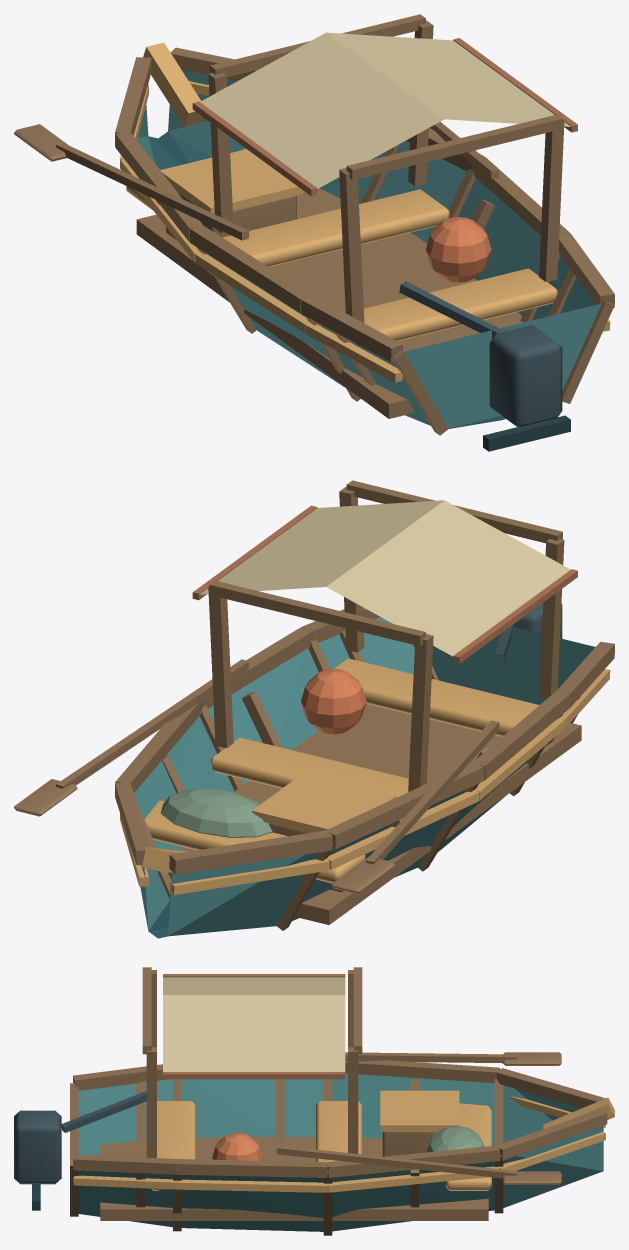
The model's file is coastal-fishing-boat.glb.
3 renders of one model, top to bottom at view 1: azimuth 30°, elevation 25°; view 2: azimuth 150°, elevation 25°; view 3: azimuth 270°, elevation 25°, orthographic. The views are drawn at different scales.
Parts seen in each view (by area): view 1: boat_material_boat_weathered_wood, boat_material_boat_oat_canvas, boat_material_boat_warm_stripe, boat_material_boat_storm_teal, boat_material_boat_dark_metal, boat_material_boat_buoy_coral, boat_material_boat_canvas_edge, boat_material_boat_deep_keel, boat_material_boat_shadow; view 2: boat_material_boat_weathered_wood, boat_material_boat_oat_canvas, boat_material_boat_storm_teal, boat_material_boat_warm_stripe, boat_material_boat_net_green, boat_material_boat_buoy_coral, boat_material_boat_canvas_edge, boat_material_boat_dark_metal; view 3: boat_material_boat_weathered_wood, boat_material_boat_storm_teal, boat_material_boat_oat_canvas, boat_material_boat_warm_stripe, boat_material_boat_dark_metal, boat_material_boat_canvas_edge, boat_material_boat_buoy_coral, boat_material_boat_net_green.
Part boxes in pixels (bbox=[...]): boat_material_boat_weathered_wood: bbox=[14, 14, 614, 435]; boat_material_boat_oat_canvas: bbox=[200, 32, 570, 188]; boat_material_boat_warm_stripe: bbox=[120, 42, 610, 382]; boat_material_boat_storm_teal: bbox=[137, 70, 601, 428]; boat_material_boat_dark_metal: bbox=[399, 281, 562, 428]; boat_material_boat_buoy_coral: bbox=[425, 217, 491, 282]; boat_material_boat_canvas_edge: bbox=[192, 38, 577, 195]; boat_material_boat_deep_keel: bbox=[148, 131, 505, 428]; boat_material_boat_shadow: bbox=[483, 415, 570, 451]; boat_material_boat_weathered_wood: bbox=[14, 480, 614, 930]; boat_material_boat_oat_canvas: bbox=[199, 500, 570, 656]; boat_material_boat_storm_teal: bbox=[134, 617, 595, 936]; boat_material_boat_warm_stripe: bbox=[120, 658, 610, 895]; boat_material_boat_net_green: bbox=[160, 788, 272, 837]; boat_material_boat_buoy_coral: bbox=[301, 668, 366, 734]; boat_material_boat_canvas_edge: bbox=[192, 505, 577, 663]; boat_material_boat_dark_metal: bbox=[494, 603, 562, 663]; boat_material_boat_weathered_wood: bbox=[70, 967, 607, 1235]; boat_material_boat_storm_teal: bbox=[78, 1073, 603, 1231]; boat_material_boat_oat_canvas: bbox=[163, 977, 345, 1071]; boat_material_boat_warm_stripe: bbox=[73, 1090, 614, 1192]; boat_material_boat_dark_metal: bbox=[14, 1091, 146, 1184]; boat_material_boat_canvas_edge: bbox=[163, 974, 345, 1079]; boat_material_boat_buoy_coral: bbox=[212, 1132, 262, 1160]; boat_material_boat_net_green: bbox=[426, 1126, 483, 1152].
Bounding box in the file's own units: 1.94 × 1.45 × 3.79.
